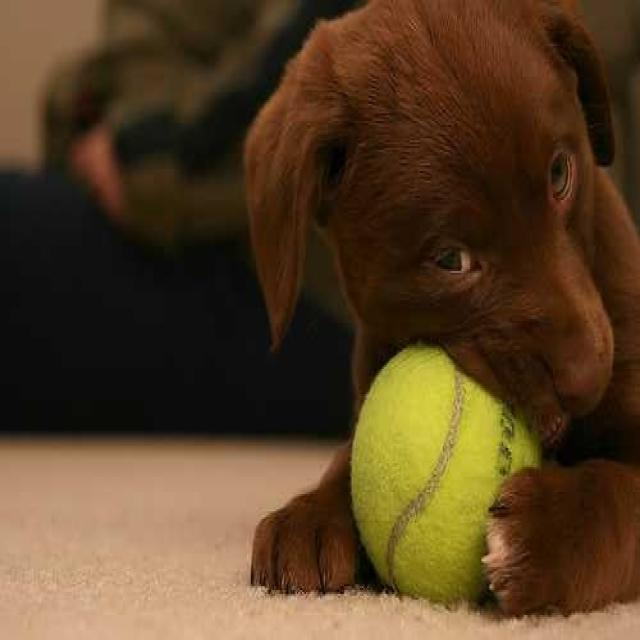Tennis_Ball: (360, 337, 540, 605)
